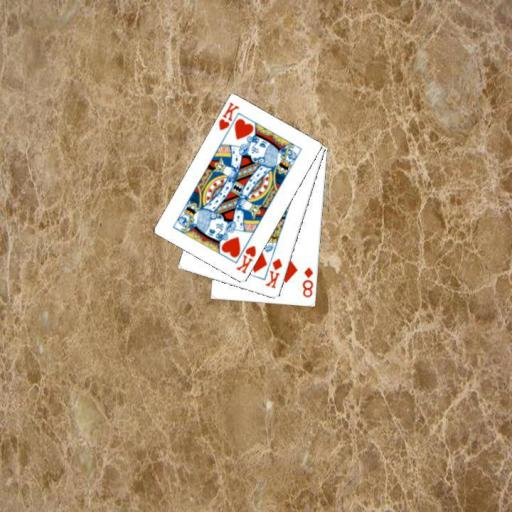8D: (300, 264, 315, 299)
KD: (262, 255, 284, 290)
KH: (233, 243, 258, 275), (216, 100, 241, 132)
